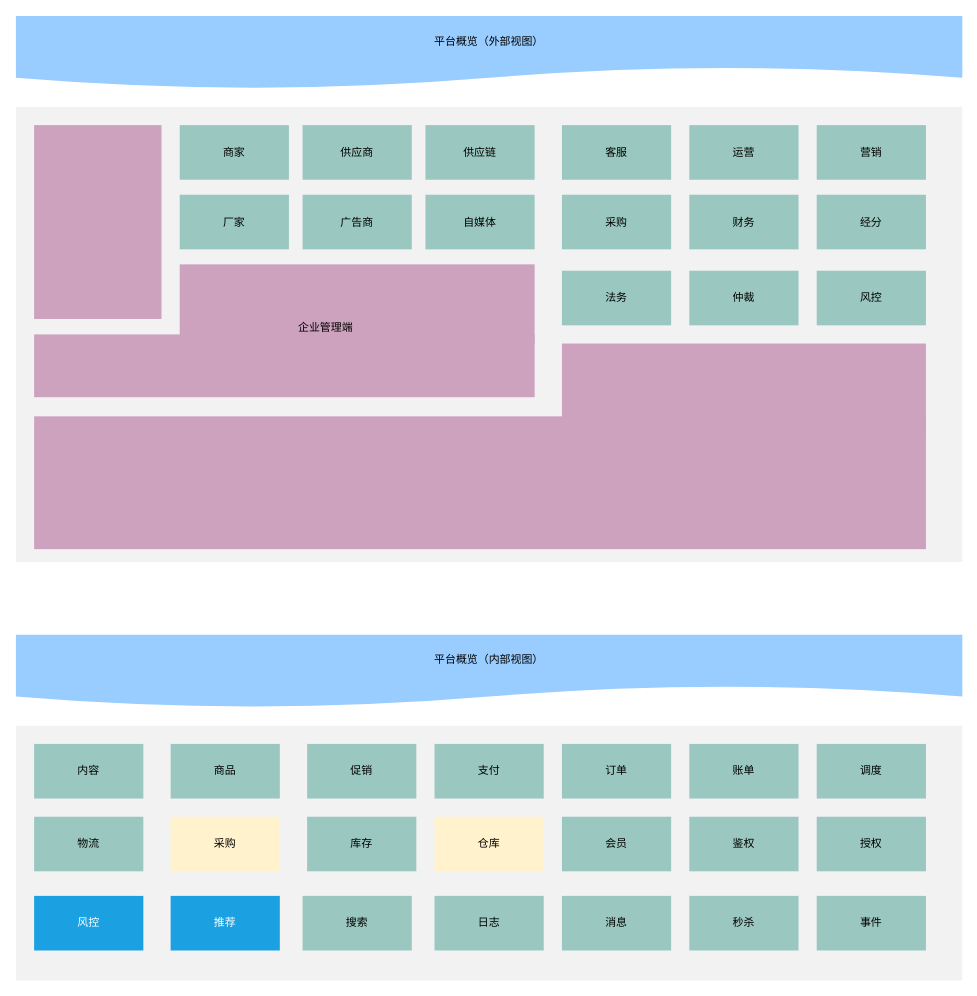
Some shapes in this 977 by 996 pixel diagram are drawn without their labels. Each missing label, with the box of its shape:
用户: (34, 125, 161, 318)
运营管理端: (34, 416, 925, 549)
